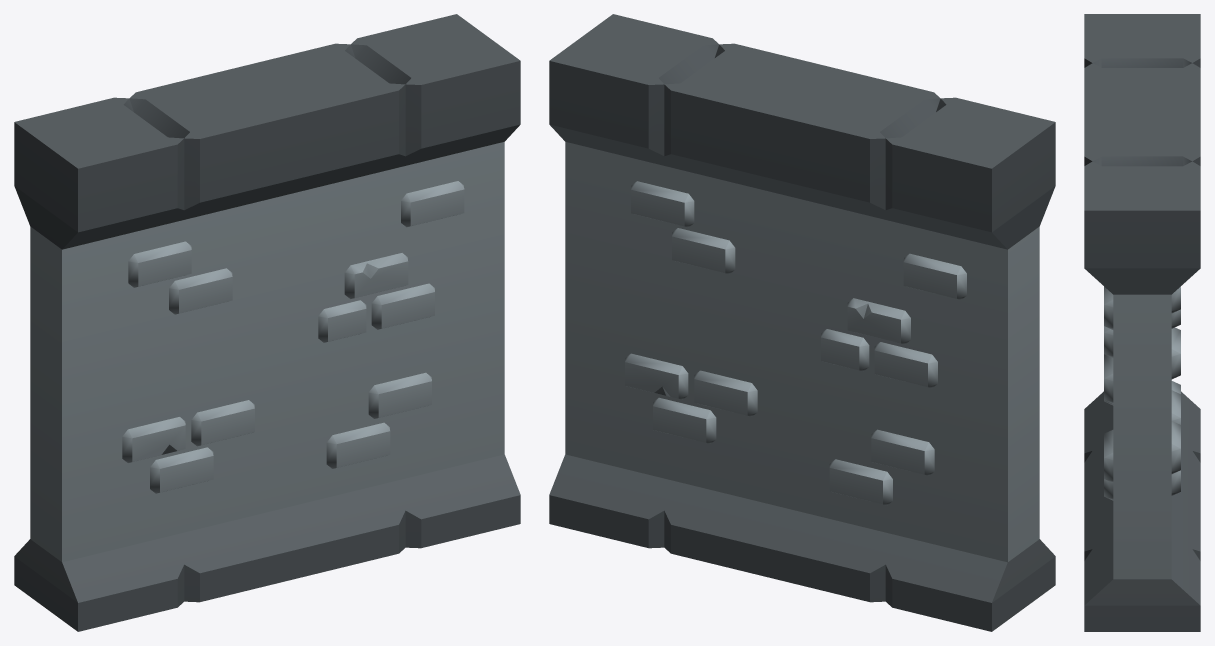
File: dungeon-wall.glb
3 renders of one model, left to right at view 1: azimuth 30°, elevation 25°; view 2: azimuth 150°, elevation 25°; view 3: azimuth 270°, elevation 25°, orthographic. The views are drawn at different scales.
Visible parts, largest first — view 1: dungeon-wall; view 2: dungeon-wall; view 3: dungeon-wall.
Part boxes in pixels (x1,y1,x2,y2): dungeon-wall: (14,14,520,631); dungeon-wall: (549,14,1055,631); dungeon-wall: (1084,14,1200,631).
Size of the model in its own units: 3 by 3 by 0.7501.
1 material, 1 textured.
